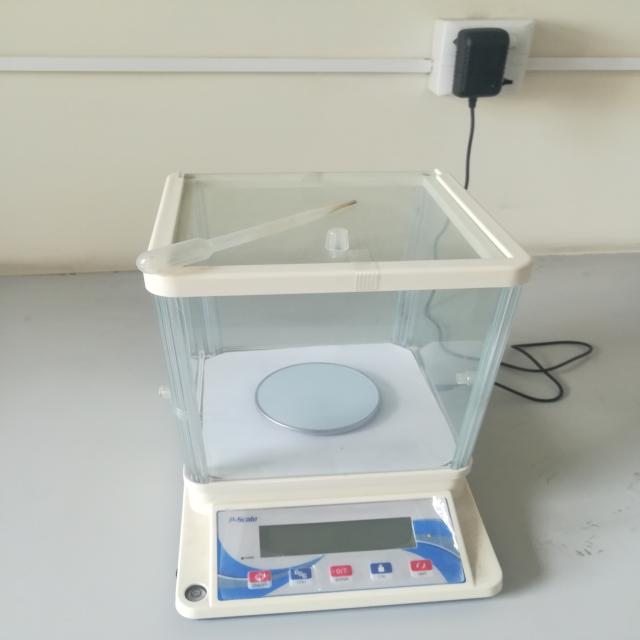Pipette: (102, 168, 384, 296)
